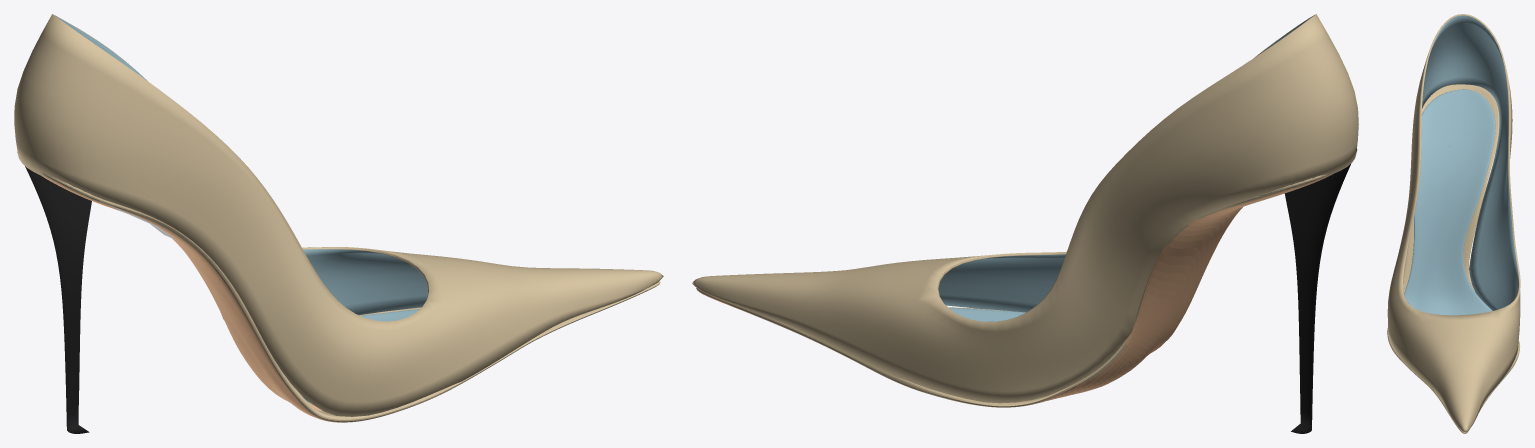
Rendered from PUMP90.POINTEDTOE.glb.
3 views of the same model, side by side, from view 1: azimuth 30°, elevation 25°; view 2: azimuth 150°, elevation 25°; view 3: azimuth 270°, elevation 25° (orthographic). The views are drawn at different scales.
Visible parts, largest first — view 1: tomaia.002, SUOLA, tacco2; view 2: tomaia.002, SUOLA, tacco2, sottopiede; view 3: tomaia.002, sottopiede, SUOLA.
Part boxes in pixels (box(x1,y1,x2,y2)): tomaia.002: box(14, 14, 663, 416); SUOLA: box(17, 152, 660, 422); tacco2: box(25, 166, 91, 433); tomaia.002: box(692, 14, 1358, 403); SUOLA: box(696, 151, 1356, 407); tacco2: box(1284, 149, 1357, 433); sottopiede: box(949, 307, 1025, 321); tomaia.002: box(1387, 14, 1520, 432); sottopiede: box(1404, 89, 1495, 315); SUOLA: box(1387, 84, 1520, 433).
Size of the model in its own units: 0.2733 by 0.1723 by 0.0821.
